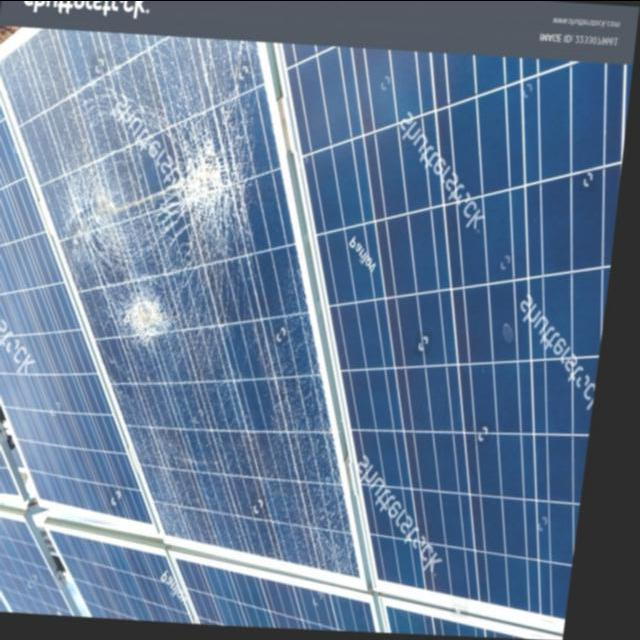cracked: (39, 22, 364, 570)
